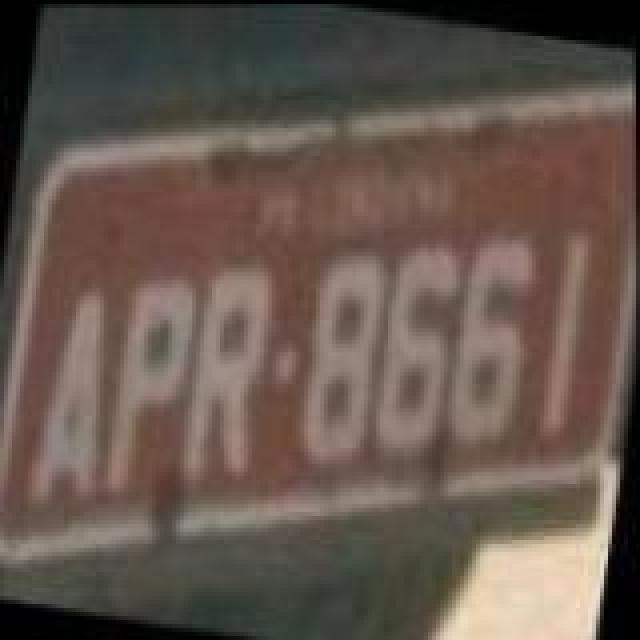1: (532, 226, 600, 434)
6: (360, 230, 468, 462), (438, 232, 550, 452)
8: (284, 244, 400, 476)
A: (18, 278, 126, 514)
P: (96, 270, 208, 506)
R: (170, 254, 282, 490)
